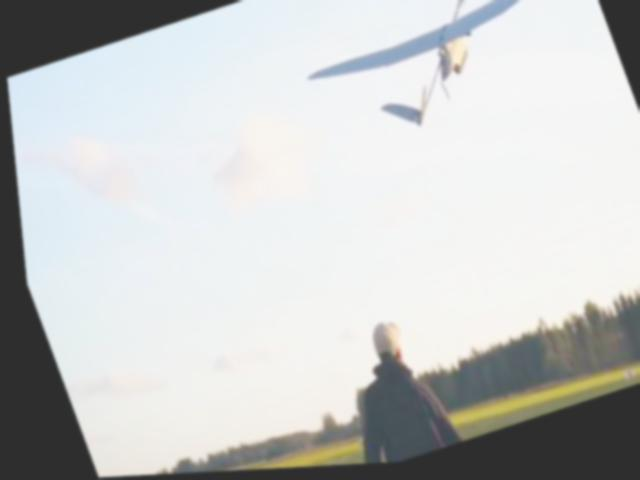uav: (286, 0, 624, 159)
